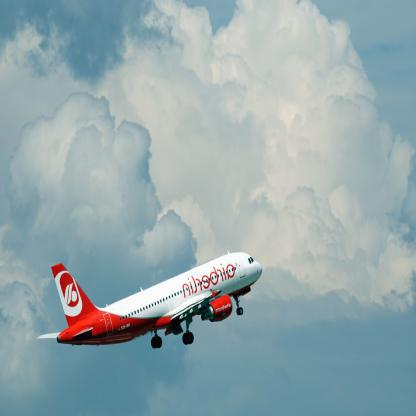CIV_Plane: (33, 249, 264, 383)
